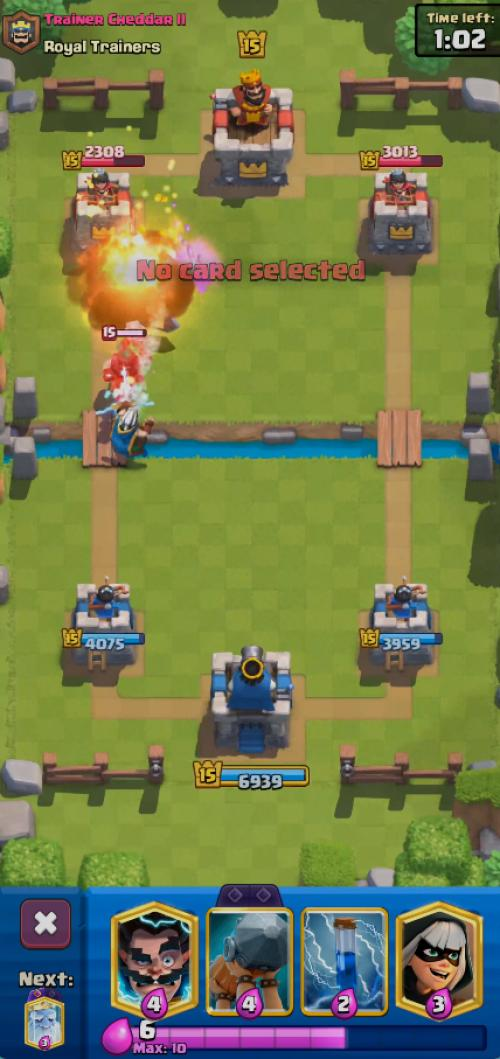Enemy-DarkPrince-Charge: (103, 339, 150, 392)
Enemy-KingTower: (212, 69, 294, 188)
Enemy-PrincessTower: (364, 168, 432, 259), (73, 169, 133, 248)
